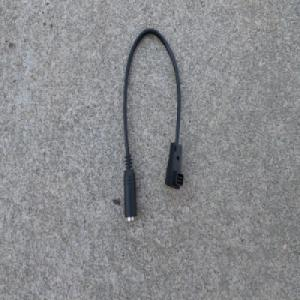Wire: (121, 26, 186, 224)
